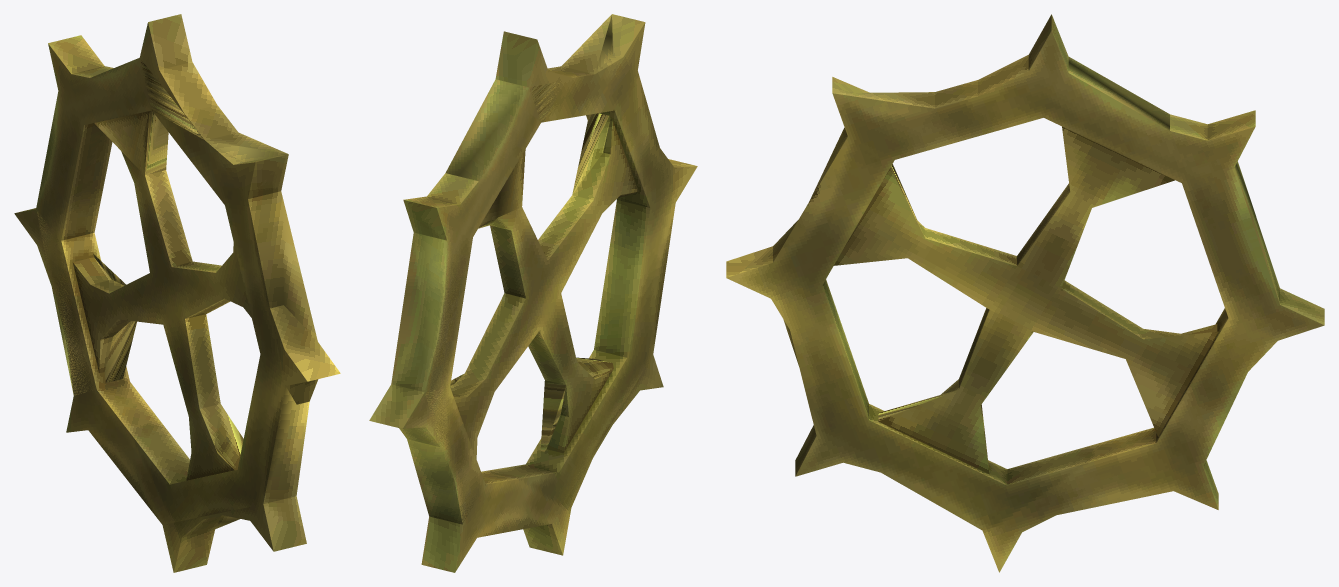
File: item_steampunk_gear_spikes_big.glb
The picture shows the model from 3 angles, left to right: view 1: azimuth 30°, elevation 25°; view 2: azimuth 150°, elevation 25°; view 3: azimuth 270°, elevation 25°; orthographic projection.
Visible parts, largest first — view 1: gearSpikes; view 2: gearSpikes; view 3: gearSpikes.
Part boxes in pixels (bbox=[...]): gearSpikes: bbox=[14, 14, 340, 572]; gearSpikes: bbox=[369, 14, 697, 572]; gearSpikes: bbox=[726, 14, 1324, 572].
Bounding box in the file's own units: 0.0435 × 0.665 × 0.665.
1 material, 1 textured.
